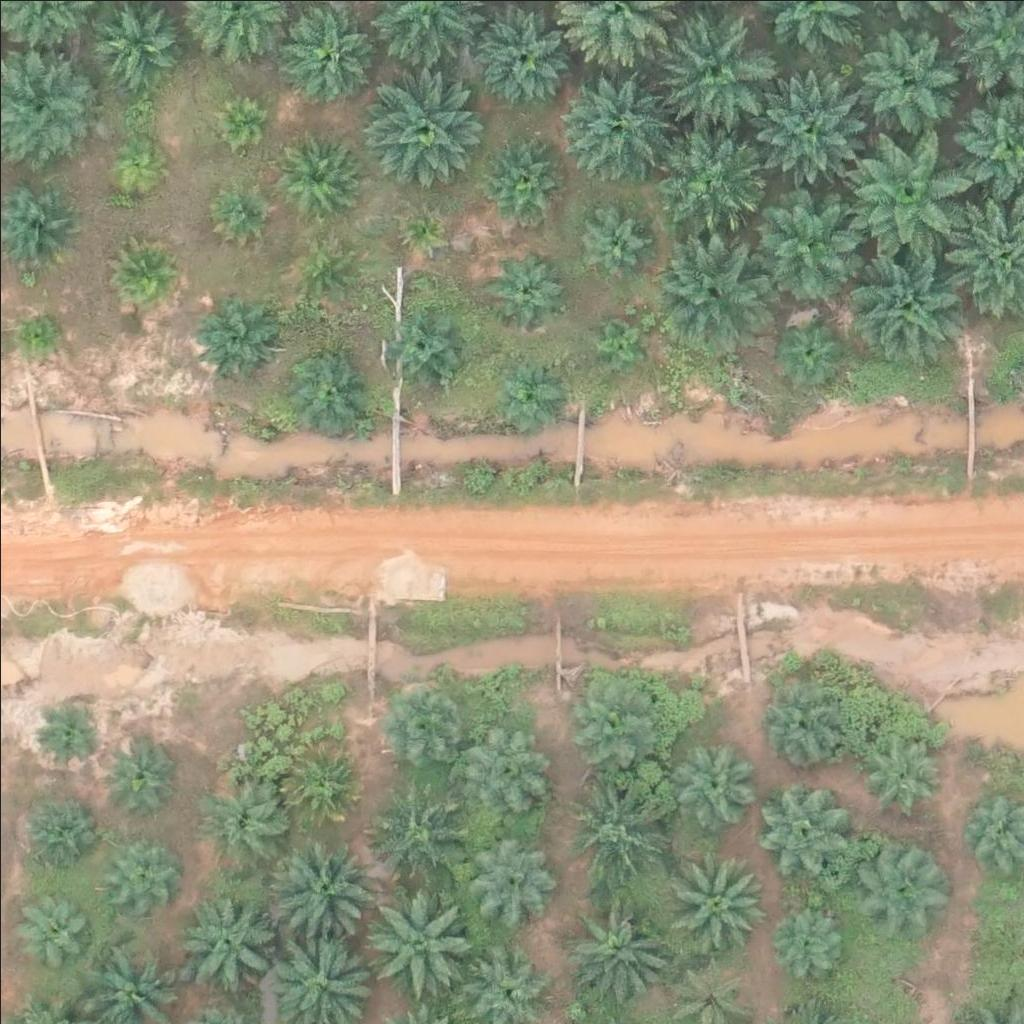Kelapa_Sawit: (365, 74, 478, 188), (753, 69, 866, 183), (651, 115, 764, 228), (659, 232, 772, 345), (753, 187, 866, 300), (264, 832, 377, 945), (661, 9, 773, 123), (850, 137, 962, 251), (365, 885, 477, 999), (556, 67, 668, 180), (847, 247, 959, 360), (565, 763, 677, 876), (470, 6, 570, 107), (178, 887, 278, 988), (370, 782, 470, 883), (568, 889, 668, 990), (664, 849, 764, 950), (853, 832, 953, 933), (278, 5, 378, 105), (855, 35, 955, 135), (559, 663, 659, 763), (755, 783, 855, 883), (384, 303, 472, 391), (478, 136, 566, 224), (282, 737, 370, 825), (470, 831, 558, 919), (756, 687, 844, 775), (460, 723, 547, 812), (284, 347, 371, 435), (275, 132, 362, 220), (198, 770, 285, 858), (382, 678, 469, 766), (763, 893, 850, 981), (665, 734, 752, 822), (857, 733, 944, 821), (200, 291, 275, 367), (491, 249, 566, 325), (21, 885, 96, 961), (19, 797, 94, 873), (101, 831, 176, 906), (103, 731, 178, 806), (501, 365, 564, 428), (779, 317, 842, 380), (112, 244, 175, 307), (42, 702, 105, 765), (581, 210, 643, 273), (290, 238, 352, 301), (115, 137, 165, 188), (213, 95, 263, 145), (218, 187, 268, 237), (591, 318, 641, 368), (22, 315, 59, 353), (407, 215, 444, 252)
